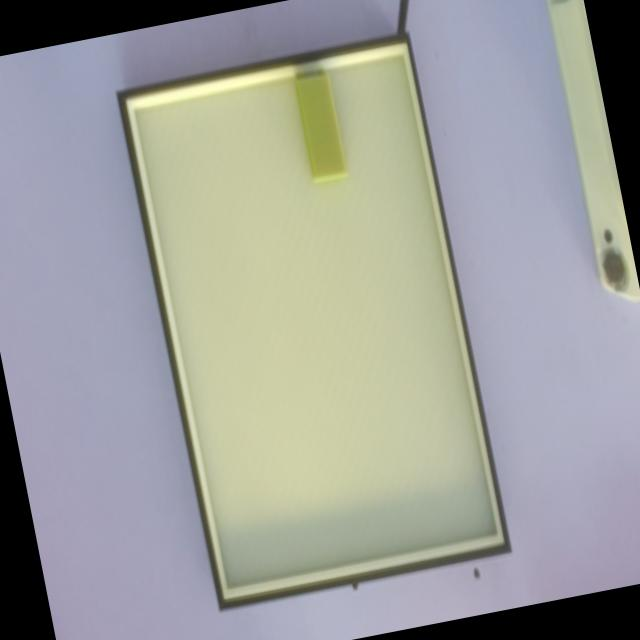bateria: (292, 68, 349, 183)
mesa: (116, 32, 512, 609)
